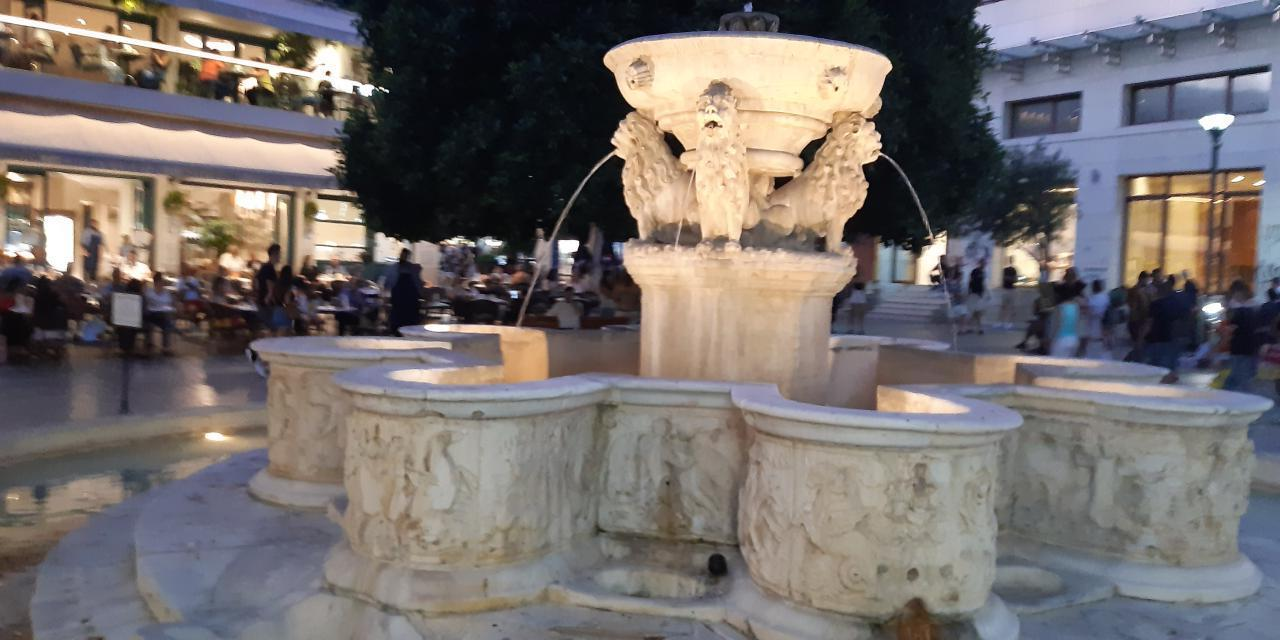Liontaria: (246, 44, 1268, 610)
